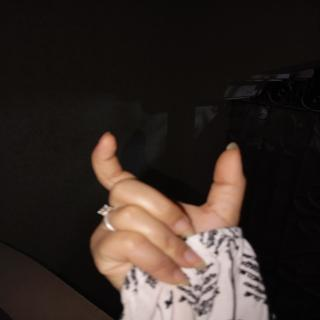NOON: (70, 126, 282, 317)
